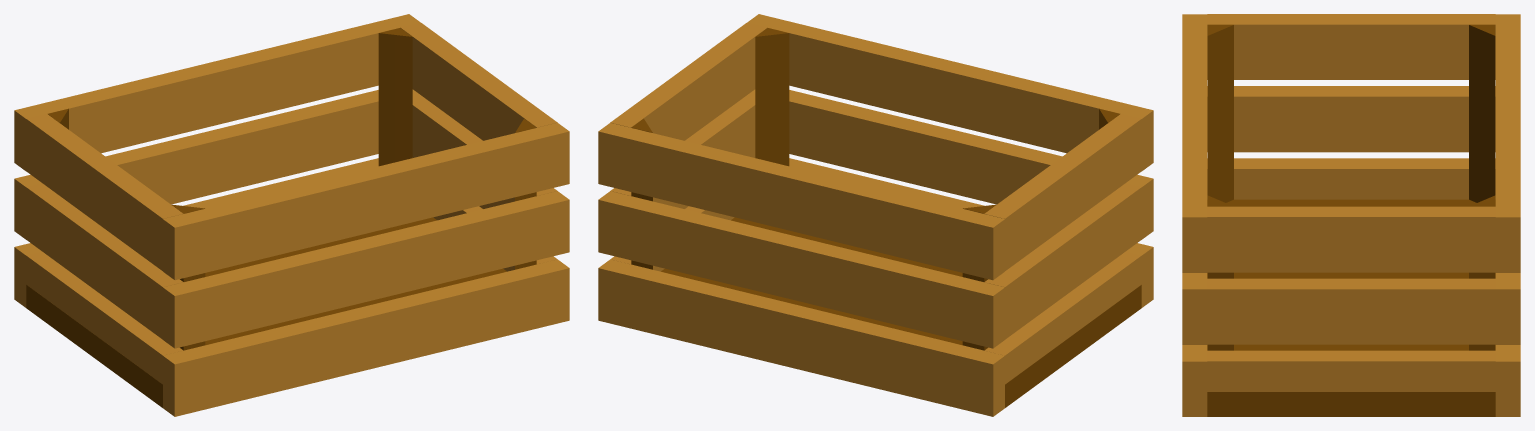
The model's file is caixinha.fbx.
3 views of the same model, side by side, from view 1: azimuth 30°, elevation 25°; view 2: azimuth 150°, elevation 25°; view 3: azimuth 270°, elevation 25° (orthographic). The views are drawn at different scales.
Visible parts, largest first — view 1: Cube.006, Cube.007, Cube.005, Cube.008; view 2: Cube.006, Cube.007, Cube.005, Cube.008; view 3: Cube.007, Cube.006, Cube.005, Cube.008.
Boxes of the visible parts, x1,y1,x2,y2 form: Cube.006: (14, 14, 569, 416); Cube.007: (26, 22, 557, 384); Cube.005: (26, 217, 506, 407); Cube.008: (48, 28, 536, 350); Cube.006: (598, 14, 1153, 416); Cube.007: (610, 22, 1141, 384); Cube.005: (661, 217, 1141, 407); Cube.008: (631, 28, 1119, 350); Cube.007: (1207, 14, 1495, 391); Cube.006: (1182, 14, 1520, 416); Cube.005: (1207, 199, 1495, 416); Cube.008: (1207, 24, 1495, 350).
Bounding box in the file's own units: 70.58 × 32.36 × 49.69.
